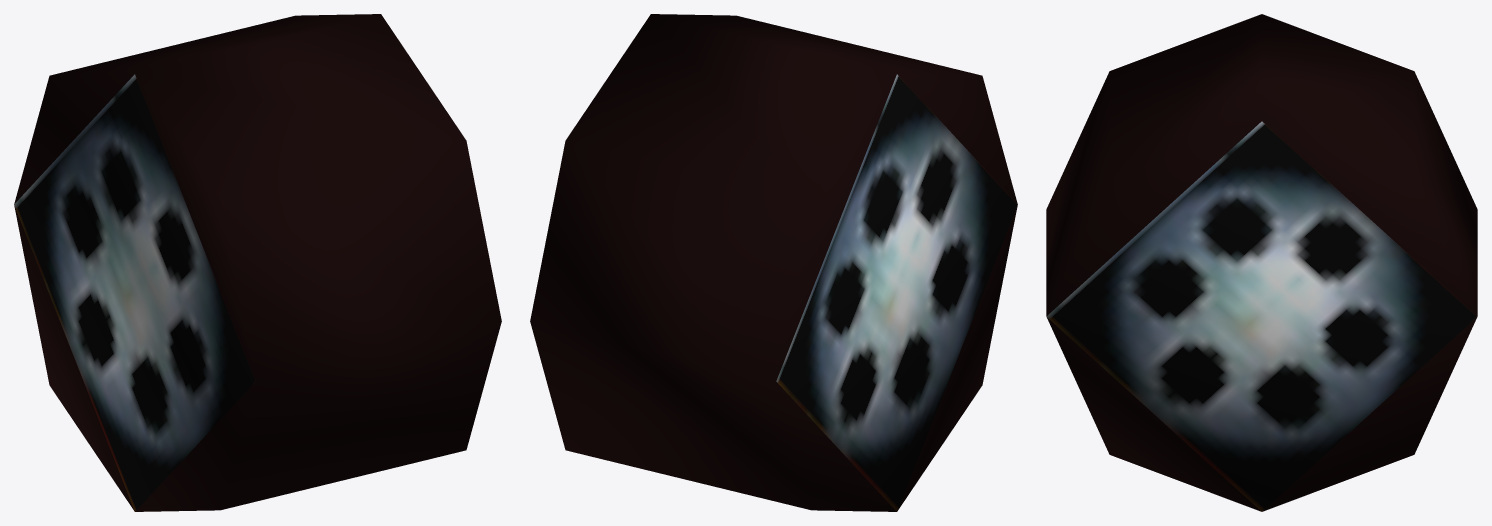
File: WheelFrontL.obj
3 views of the same model, side by side, from view 1: azimuth 30°, elevation 25°; view 2: azimuth 150°, elevation 25°; view 3: azimuth 270°, elevation 25° (orthographic). The views are drawn at different scales.
Parts seen in each view (by area): view 1: WheelFrontL; view 2: WheelFrontL; view 3: WheelFrontL.
Part boxes in pixels (x1,y1,x2,y2): WheelFrontL: (14,14,501,511); WheelFrontL: (530,14,1017,511); WheelFrontL: (1046,14,1477,511).
Size of the model in its own units: 0.64 by 1.09 by 1.09.
2 materials, 1 textured.
